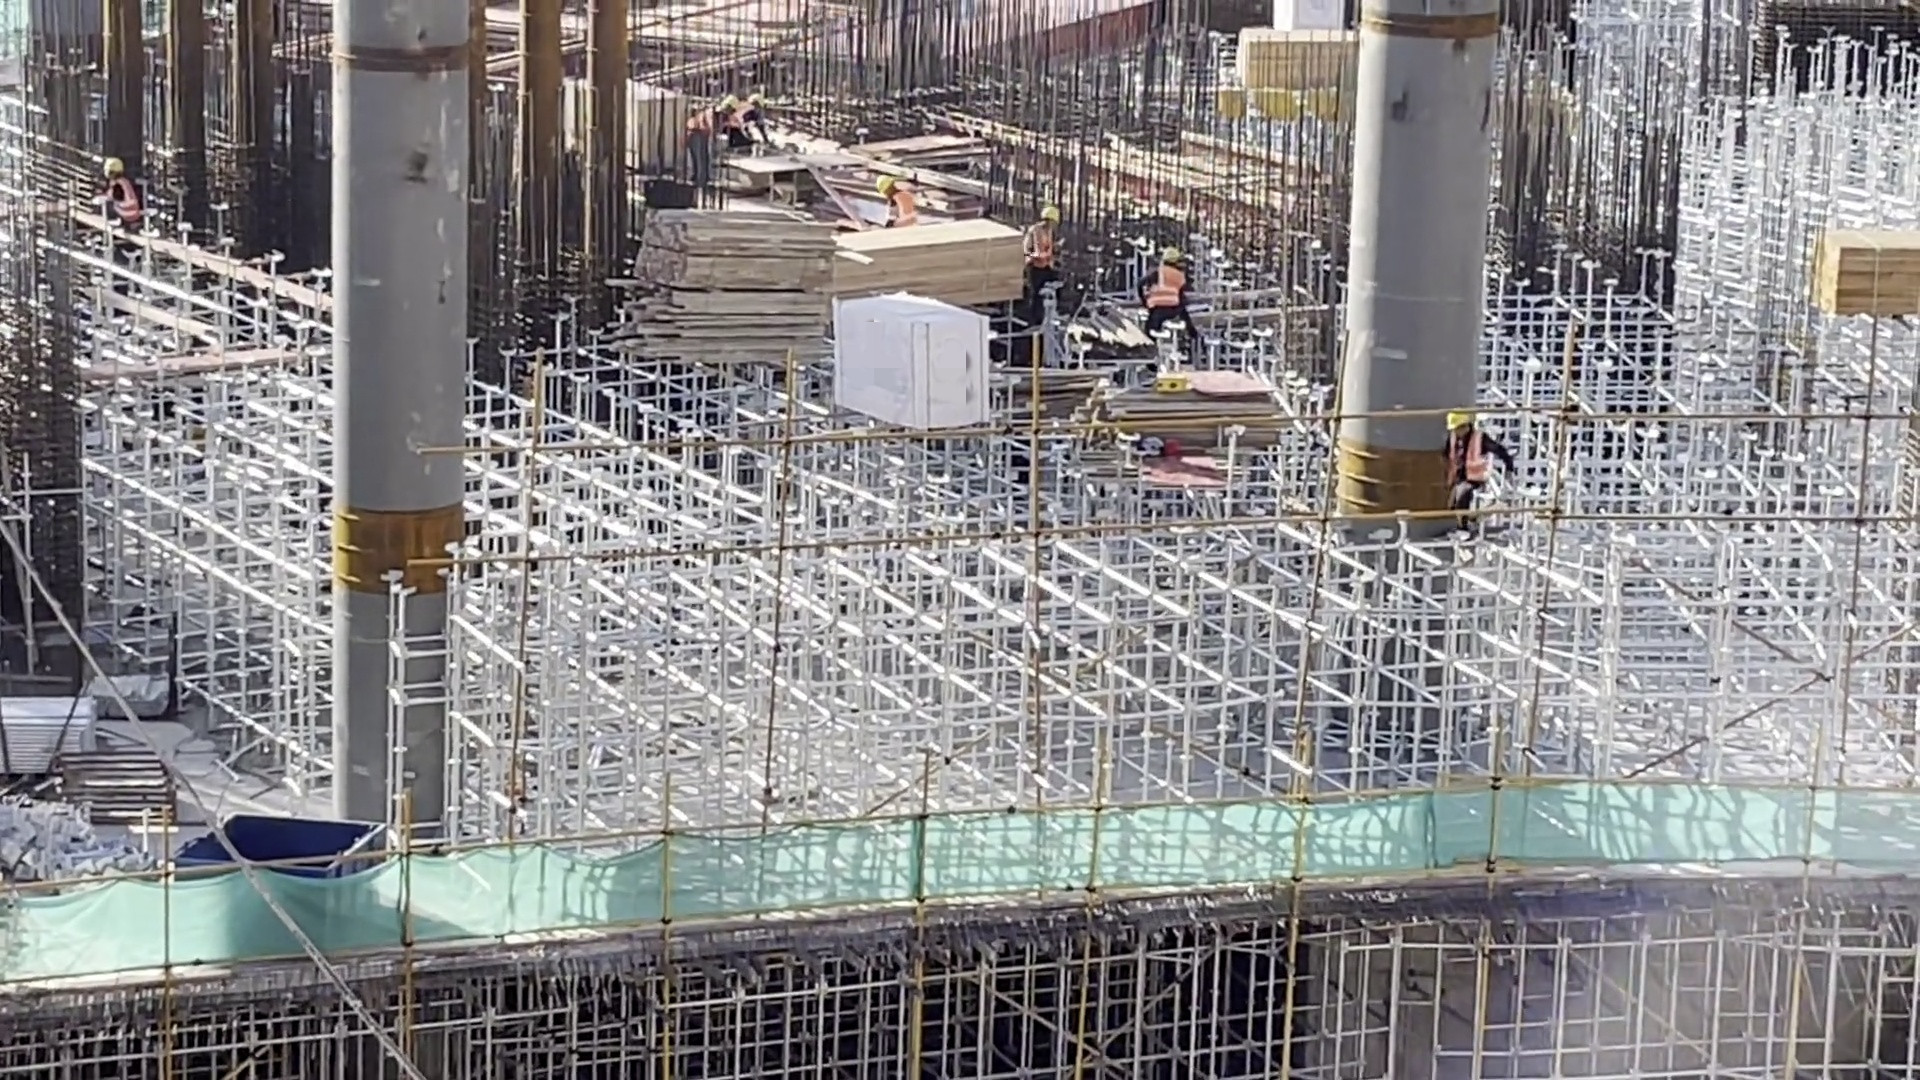board: (1092, 364, 1279, 454)
cutter: (739, 145, 878, 201)
helmet: (1158, 245, 1185, 265), (1453, 406, 1476, 427), (103, 156, 128, 174), (1040, 205, 1058, 221)
hopper: (173, 806, 395, 876)
person: (1446, 393, 1518, 524), (1135, 246, 1200, 350), (692, 85, 735, 194), (101, 156, 141, 262), (1020, 197, 1058, 295), (732, 87, 774, 136), (884, 171, 915, 222)
vest: (1449, 435, 1486, 500), (104, 179, 142, 225), (1146, 268, 1186, 310), (1028, 225, 1055, 273), (886, 193, 908, 224)
wood: (627, 212, 830, 376), (818, 203, 1024, 306), (1234, 13, 1365, 119), (1809, 224, 1920, 328)
